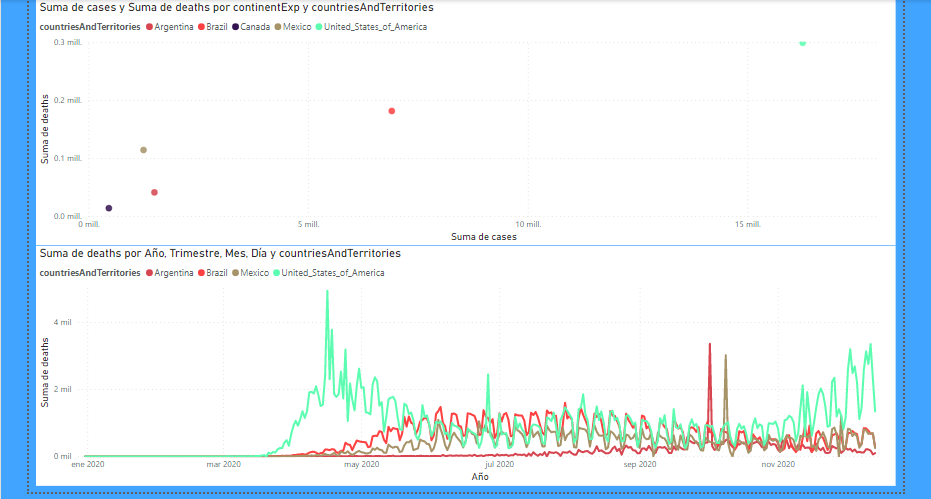

Layout of this report page (visuals, bound fields, positions):
{"tool":"powerbi","page":{"name":"Página 5","canvas":[1280,720],"ordinal":4},"visuals":[{"type":"scatterChart","fields":{"X":["Sum(COVID-19-geographic-disbtributi (2).cases)"],"Category":["COVID-19-geographic-disbtributi (2).continentExp"],"Series":["COVID-19-geographic-disbtributi (2).countriesAndTerritories"],"Y":["Sum(COVID-19-geographic-disbtributi (2).deaths)"]},"box":[10.1,0,1258.2,359.5],"z":0},{"type":"lineChart","fields":{"Y":["Sum(COVID-19-geographic-disbtributi (2).deaths)"],"Category":["COVID-19-geographic-disbtributi (2).dateRep.Variación.Jerarquía de fechas.Año","COVID-19-geographic-disbtributi (2).dateRep.Variación.Jerarquía de fechas.Trimestre","COVID-19-geographic-disbtributi (2).dateRep.Variación.Jerarquía de fechas.Mes","COVID-19-geographic-disbtributi (2).dateRep.Variación.Jerarquía de fechas.Día"],"Series":["COVID-19-geographic-disbtributi (2).countriesAndTerritories"]},"box":[10.1,359.5,1258.2,351.1],"z":1000}]}

Visuals, with their boxes in screenshot pixels (x1, y1, x2, y2):
scatterChart - Sum(COVID-19-geographic-disbtributi (2).cases) x COVID-19-geographic-disbtributi (2).continentExp: select_region(34, 0, 894, 246)
lineChart - Sum(COVID-19-geographic-disbtributi (2).deaths) x COVID-19-geographic-disbtributi (2).dateRep.Variación.Jerarquía de fechas.Año: select_region(34, 246, 894, 486)
